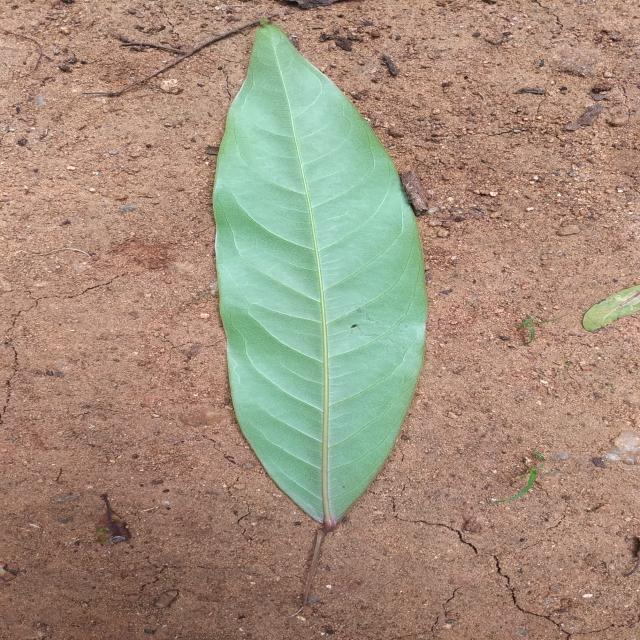seethaashoka: (213, 25, 427, 530)
